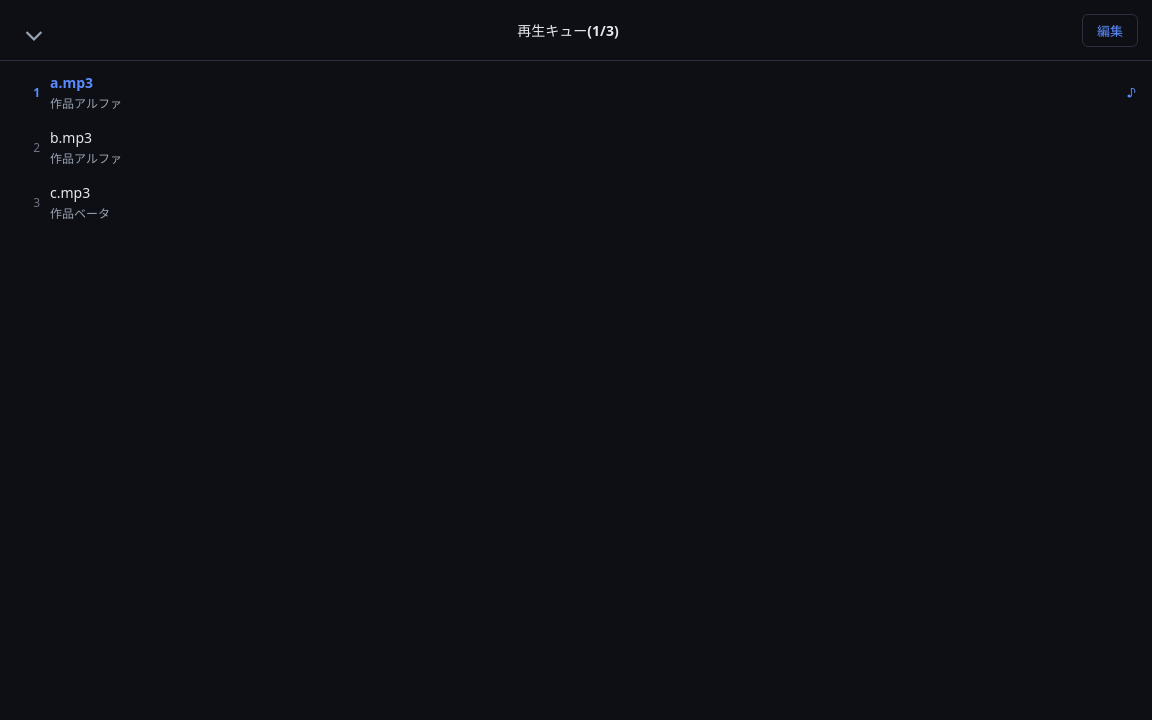
Test case: QueueScreen 編集モード › 編集モードに入ると削除ボタンとドラッグハンドルが現れ、「完了」で表示モードに戻る
The width and height of the screenshot is (1152, 720).
Click the button with aria-label "キューを編集". click: (1110, 30)
box: x1=1082 y1=14 x2=1138 y2=46
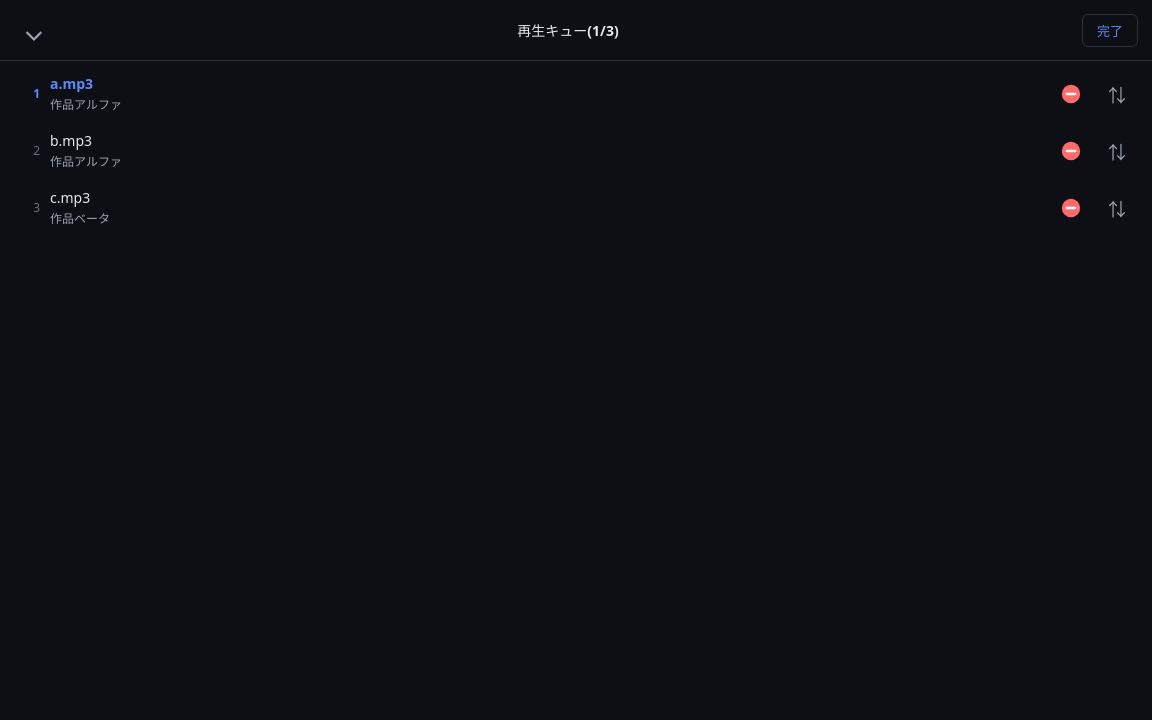
Now the number of buttons named "をキューから削除" is 3, box x1=1054 y1=76 x2=1088 y2=110; x1=1054 y1=134 x2=1088 y2=168; x1=1054 y1=190 x2=1088 y2=224
Now the number of buttons named "を並び替え" is 3, box x1=1098 y1=74 x2=1136 y2=112; x1=1098 y1=132 x2=1136 y2=170; x1=1098 y1=188 x2=1136 y2=226
Click the button with aria-label "キューの編集を終了". click: (1110, 30)
box: x1=1082 y1=14 x2=1138 y2=46
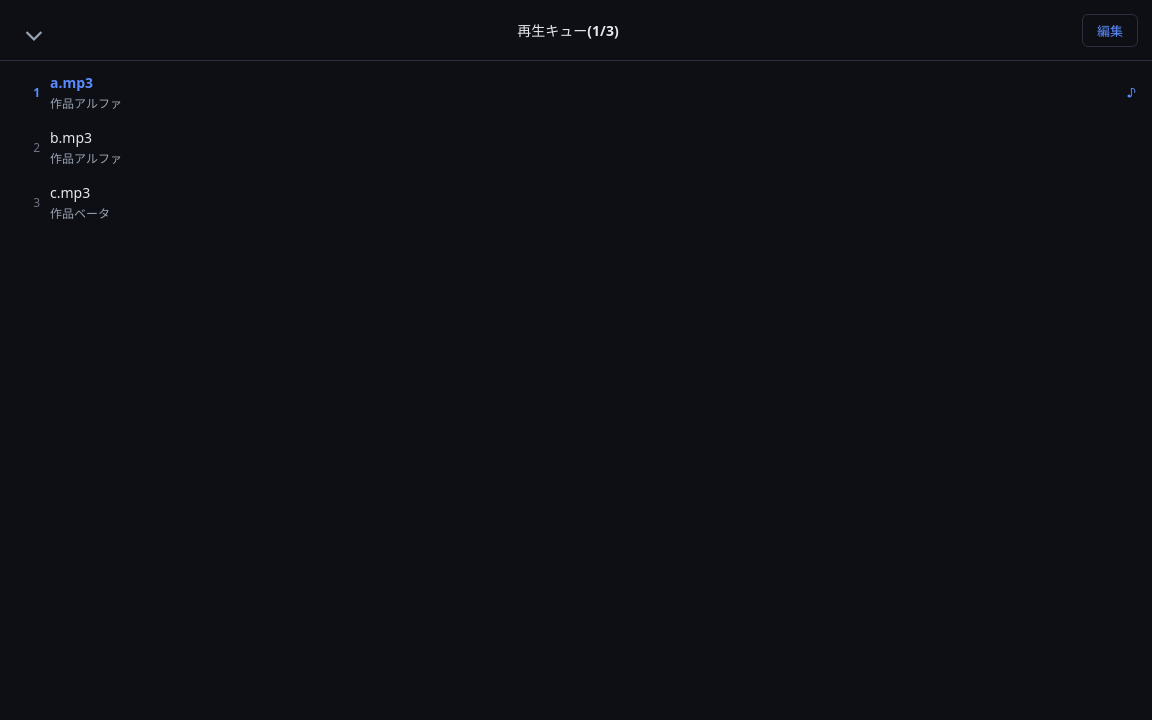
Now the button with aria-label "a.mp3 を再生" is shown, box x1=8 y1=65 x2=1144 y2=120
